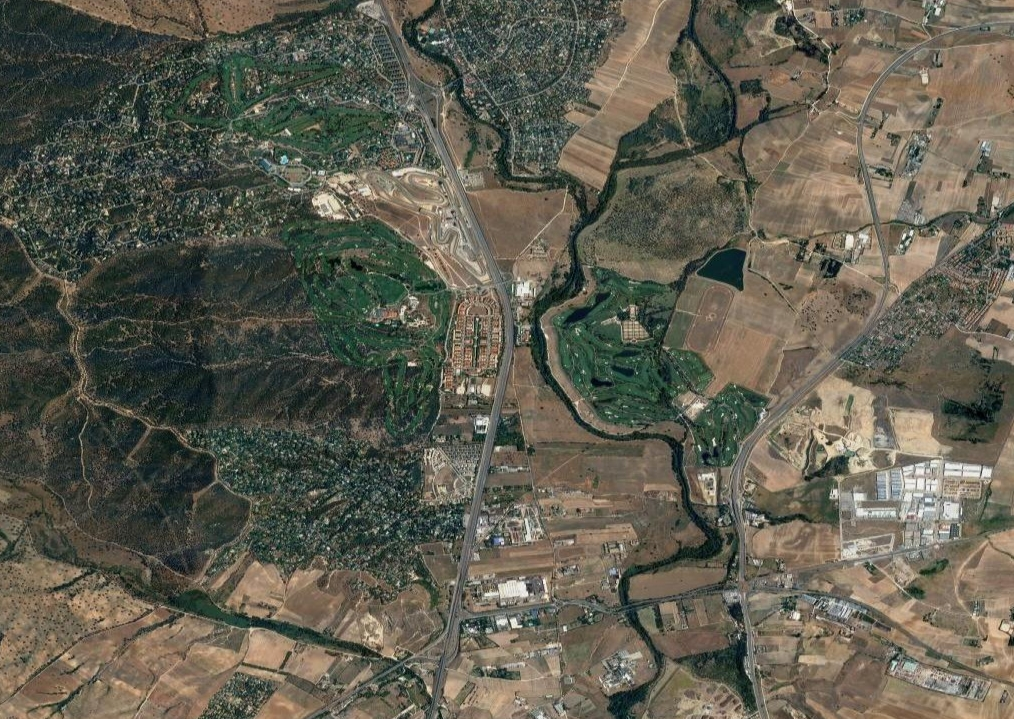industrial: (840, 448, 995, 567)
motorway: (427, 130, 498, 269), (422, 562, 479, 714), (761, 346, 857, 436), (376, 5, 441, 131), (477, 270, 529, 416), (452, 414, 504, 560), (851, 219, 896, 345), (850, 97, 895, 223), (732, 573, 767, 719), (726, 428, 761, 574), (864, 34, 936, 100), (936, 1, 1014, 56)
